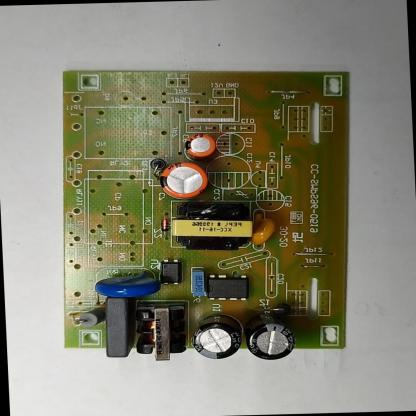Cap1: (159, 159, 209, 201)
Cap2: (184, 132, 216, 158)
Cap3: (190, 314, 242, 360)
Cap4: (245, 311, 296, 360)
MOSFET: (204, 272, 249, 302)
Mov: (93, 271, 161, 299)
Resistor: (76, 304, 106, 327)
Transformer: (170, 202, 255, 254), (131, 302, 187, 363)
